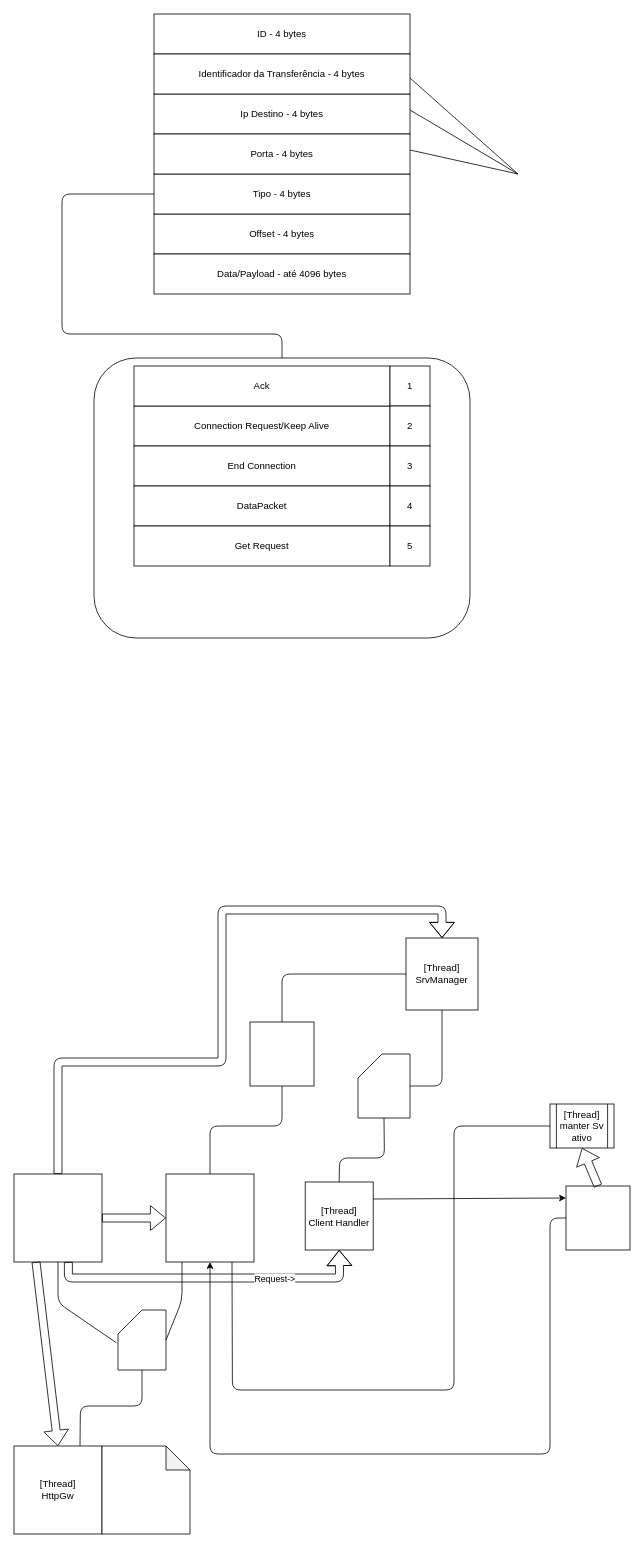
Some shapes in this 644 by 1548 pixel diagram are drawn without their labels. The shapes that lost their labels are listed below. From the top down, each one's centre as x and y in pixels, then its label:
At point 281,1053: "ServerStack".
At point 383,1085: "ServersInfo".
At point 57,1217: "HttpGw".
At point 209,1217: "[Thread] UdpPGW Udp - listener".
At point 597,1217: "servidor Novo".
At point 141,1339: "PacketStack".
At point 145,1489: "Responsável por devolver a resposta ao cliente".
